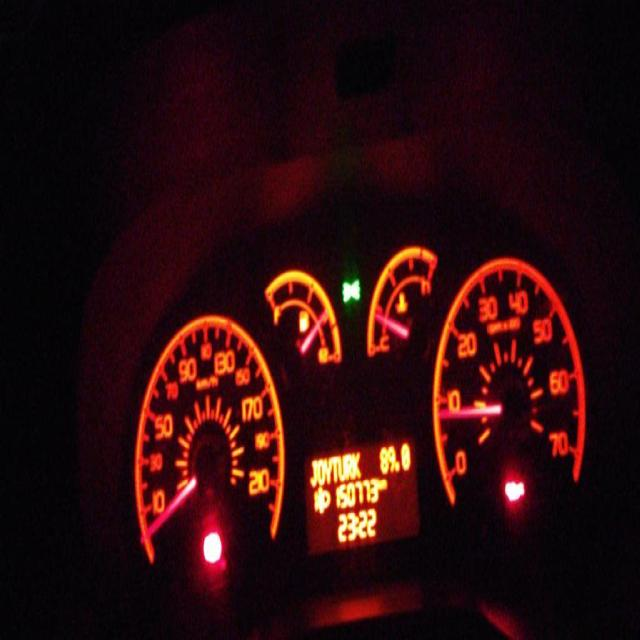odometer: (302, 432, 421, 560)
